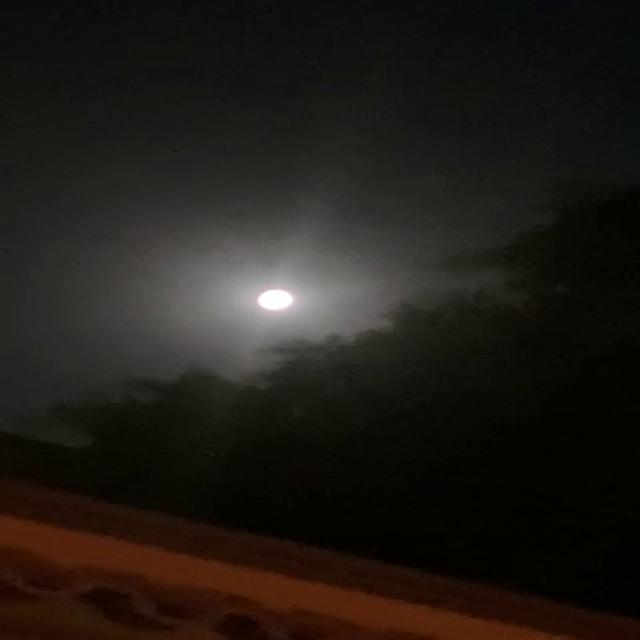moon: (247, 287, 298, 315)
